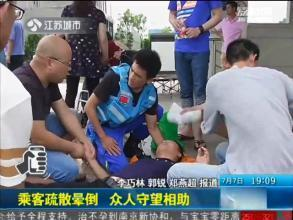Fall-Detected: (87, 133, 206, 196)
